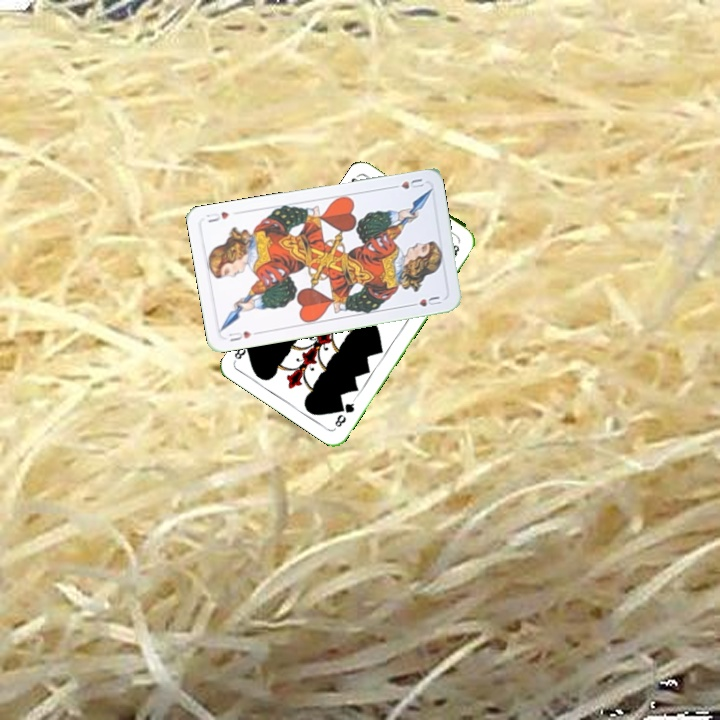G8: (331, 395, 358, 430)
HU: (387, 175, 426, 192), (224, 327, 261, 344)
